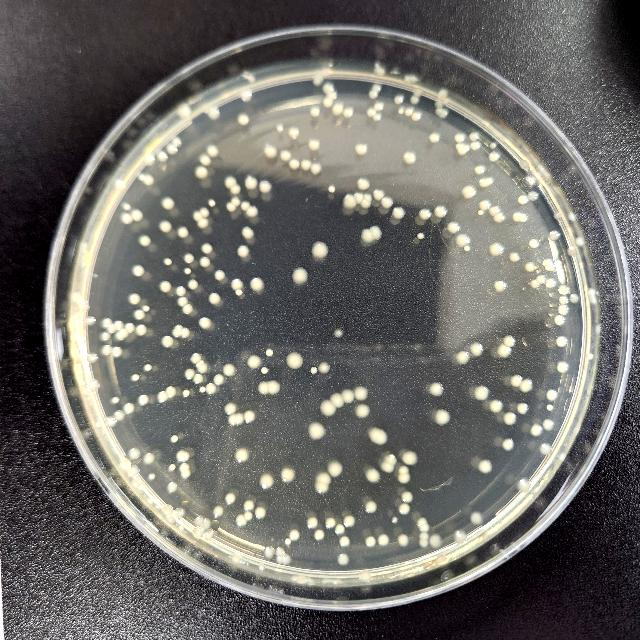colony: (308, 422, 326, 440), (286, 352, 304, 368), (292, 268, 308, 284), (312, 242, 328, 258), (320, 400, 336, 416), (428, 380, 444, 396), (434, 410, 450, 426), (176, 103, 192, 119), (234, 448, 250, 462), (330, 392, 344, 408), (366, 468, 380, 484), (328, 461, 342, 477), (264, 144, 278, 160), (462, 184, 476, 200), (240, 70, 256, 84), (354, 386, 368, 400), (356, 404, 370, 418), (403, 450, 417, 464), (259, 474, 273, 488), (281, 468, 295, 482), (475, 385, 489, 399), (456, 233, 470, 247), (490, 242, 504, 256), (502, 334, 516, 348), (497, 344, 511, 358), (456, 349, 469, 363), (471, 342, 484, 356), (434, 205, 448, 218), (250, 278, 264, 290), (268, 380, 280, 394), (362, 229, 374, 243), (370, 226, 382, 240), (344, 194, 356, 208), (245, 176, 257, 190), (342, 389, 354, 403), (375, 430, 387, 444), (307, 516, 319, 530), (317, 472, 331, 484), (430, 534, 442, 548), (454, 529, 466, 543), (479, 458, 491, 472), (521, 378, 533, 392), (494, 278, 506, 292), (374, 65, 388, 77), (418, 208, 432, 220), (518, 478, 530, 492), (332, 102, 344, 116), (208, 106, 220, 120), (207, 144, 219, 158), (358, 570, 372, 582), (370, 427, 380, 443), (225, 403, 238, 415), (446, 222, 459, 234), (198, 317, 212, 328), (223, 364, 235, 376), (248, 356, 260, 368), (232, 279, 244, 291), (237, 245, 249, 257), (136, 324, 148, 336), (162, 336, 174, 348), (258, 382, 270, 394), (244, 411, 256, 423), (160, 221, 172, 233), (162, 198, 174, 210), (196, 166, 208, 178), (246, 206, 258, 218), (358, 178, 370, 190), (259, 181, 271, 193), (132, 264, 144, 276), (88, 380, 100, 392), (129, 448, 141, 460), (365, 501, 377, 513), (343, 515, 355, 527), (316, 481, 328, 493), (504, 412, 516, 424), (490, 400, 502, 412), (531, 424, 543, 436), (546, 389, 558, 401), (393, 206, 405, 218), (382, 197, 394, 209), (310, 163, 322, 175), (356, 143, 368, 155), (404, 152, 416, 164), (479, 200, 491, 212), (557, 361, 569, 373), (539, 442, 551, 454), (241, 90, 253, 102), (312, 72, 324, 84), (199, 154, 211, 166), (143, 154, 155, 166), (156, 150, 168, 162), (512, 374, 522, 388), (238, 112, 248, 126), (338, 552, 348, 566), (318, 362, 330, 373), (226, 177, 237, 189), (87, 352, 99, 363), (121, 212, 132, 224), (144, 452, 156, 463), (488, 206, 500, 217), (428, 132, 439, 144), (556, 337, 568, 348), (342, 107, 353, 119), (472, 511, 482, 524), (105, 417, 116, 428), (166, 386, 176, 398), (214, 374, 224, 386), (190, 353, 202, 363), (209, 294, 221, 304), (214, 270, 226, 280), (114, 410, 126, 420), (160, 282, 172, 292), (242, 228, 254, 238), (178, 226, 188, 238), (373, 190, 385, 200), (354, 192, 364, 204), (280, 151, 292, 161), (129, 294, 141, 304), (80, 300, 90, 312), (132, 209, 142, 221), (144, 174, 154, 186), (163, 504, 173, 516), (174, 508, 186, 518), (382, 462, 394, 472), (400, 503, 410, 515), (314, 528, 324, 540), (265, 548, 275, 560), (255, 507, 265, 519), (244, 500, 254, 512), (237, 514, 247, 526), (366, 536, 376, 548), (398, 534, 408, 546), (543, 419, 553, 431), (300, 160, 312, 170), (288, 158, 300, 168), (308, 140, 320, 150), (494, 212, 504, 224), (518, 194, 528, 206), (528, 190, 538, 202), (489, 150, 499, 162), (438, 88, 448, 100), (519, 158, 529, 170), (310, 106, 320, 118), (324, 82, 334, 94), (166, 144, 178, 154), (213, 505, 223, 517), (282, 554, 292, 566), (396, 473, 409, 482), (298, 576, 312, 584), (236, 412, 244, 426), (206, 384, 217, 394), (198, 362, 208, 373), (112, 347, 122, 358), (327, 91, 338, 101), (193, 527, 204, 537), (120, 458, 130, 469), (393, 94, 402, 106), (194, 514, 203, 526), (289, 575, 307, 581), (158, 392, 168, 402), (193, 373, 203, 383), (185, 369, 195, 379), (188, 279, 198, 289), (135, 309, 145, 319), (181, 328, 191, 338), (172, 328, 182, 338), (124, 404, 134, 414), (138, 395, 148, 405), (184, 253, 194, 263), (200, 257, 210, 267), (202, 243, 212, 253), (183, 304, 193, 314), (178, 297, 188, 307), (176, 286, 186, 296), (334, 328, 344, 338), (200, 207, 210, 217), (198, 218, 208, 228), (140, 236, 150, 246), (102, 318, 112, 328), (102, 345, 112, 355), (120, 328, 130, 338), (86, 316, 96, 326), (168, 482, 178, 492), (129, 466, 139, 476), (386, 454, 396, 464), (402, 492, 412, 502), (326, 518, 336, 528), (290, 530, 300, 540), (379, 534, 389, 544), (503, 438, 513, 448), (518, 403, 528, 413), (455, 132, 465, 142), (366, 107, 376, 117), (368, 90, 378, 100), (390, 66, 400, 76), (509, 252, 519, 262), (525, 262, 535, 272), (536, 274, 546, 284), (549, 231, 559, 241), (546, 278, 556, 288), (558, 284, 568, 294), (569, 294, 579, 304), (558, 305, 568, 315), (554, 315, 564, 325), (323, 97, 333, 107), (289, 128, 299, 138), (180, 462, 190, 472), (204, 530, 214, 540), (231, 554, 241, 564), (276, 546, 286, 556), (130, 478, 140, 488), (340, 536, 350, 546), (194, 210, 202, 222), (513, 210, 521, 222), (475, 166, 487, 174), (176, 450, 184, 462), (228, 414, 236, 426), (231, 184, 241, 193), (227, 202, 236, 212), (115, 320, 124, 330), (109, 324, 118, 334), (244, 510, 253, 520), (418, 517, 427, 527), (411, 112, 421, 121), (373, 112, 383, 121), (226, 492, 234, 503), (232, 197, 240, 207), (361, 200, 371, 208), (126, 323, 134, 333), (399, 466, 409, 474), (336, 524, 344, 534), (419, 524, 429, 532), (419, 538, 429, 546), (520, 212, 528, 222), (478, 178, 488, 186), (471, 142, 481, 150), (470, 132, 480, 140), (454, 142, 464, 150), (440, 108, 448, 118), (411, 75, 419, 85), (412, 88, 422, 96), (374, 102, 384, 110), (372, 84, 382, 92), (543, 258, 553, 266), (567, 248, 577, 256), (576, 236, 584, 246), (568, 212, 576, 222), (172, 138, 182, 146), (181, 470, 191, 478), (182, 451, 190, 461), (116, 332, 124, 341), (411, 96, 419, 105), (203, 518, 210, 528), (332, 580, 343, 586), (266, 349, 274, 357), (310, 366, 318, 374), (112, 396, 120, 404), (171, 435, 179, 443), (148, 472, 156, 480), (164, 258, 172, 266), (208, 199, 216, 207), (242, 202, 250, 210), (364, 194, 372, 202), (102, 332, 110, 340), (138, 174, 146, 182), (546, 404, 554, 412), (404, 76, 412, 84), (530, 240, 538, 248), (531, 279, 539, 287), (546, 263, 554, 271), (560, 296, 568, 304), (588, 288, 596, 296), (589, 296, 597, 304), (586, 352, 594, 360), (276, 124, 284, 132), (166, 516, 174, 524), (276, 556, 284, 564), (595, 324, 601, 334), (322, 578, 332, 584), (144, 364, 152, 371), (132, 374, 140, 381), (182, 389, 190, 396), (168, 464, 176, 471), (328, 185, 336, 192), (464, 244, 471, 252), (405, 108, 413, 115), (436, 99, 442, 108), (374, 61, 381, 68), (236, 288, 242, 296), (142, 305, 150, 311), (175, 325, 183, 331), (124, 203, 130, 211), (392, 516, 398, 524), (285, 537, 291, 545), (420, 532, 428, 538), (418, 232, 424, 240), (487, 177, 493, 185), (464, 144, 470, 152), (458, 148, 466, 154), (436, 107, 442, 115), (554, 212, 560, 220), (258, 563, 264, 571), (478, 210, 484, 217), (489, 142, 496, 148), (200, 387, 206, 393), (262, 368, 268, 374), (185, 268, 191, 274), (398, 109, 404, 115), (97, 422, 103, 428), (138, 485, 144, 491), (148, 498, 154, 504), (178, 524, 184, 530), (558, 264, 562, 270), (200, 360, 204, 364), (596, 291, 600, 295), (196, 364, 200, 366), (412, 158, 414, 162)
